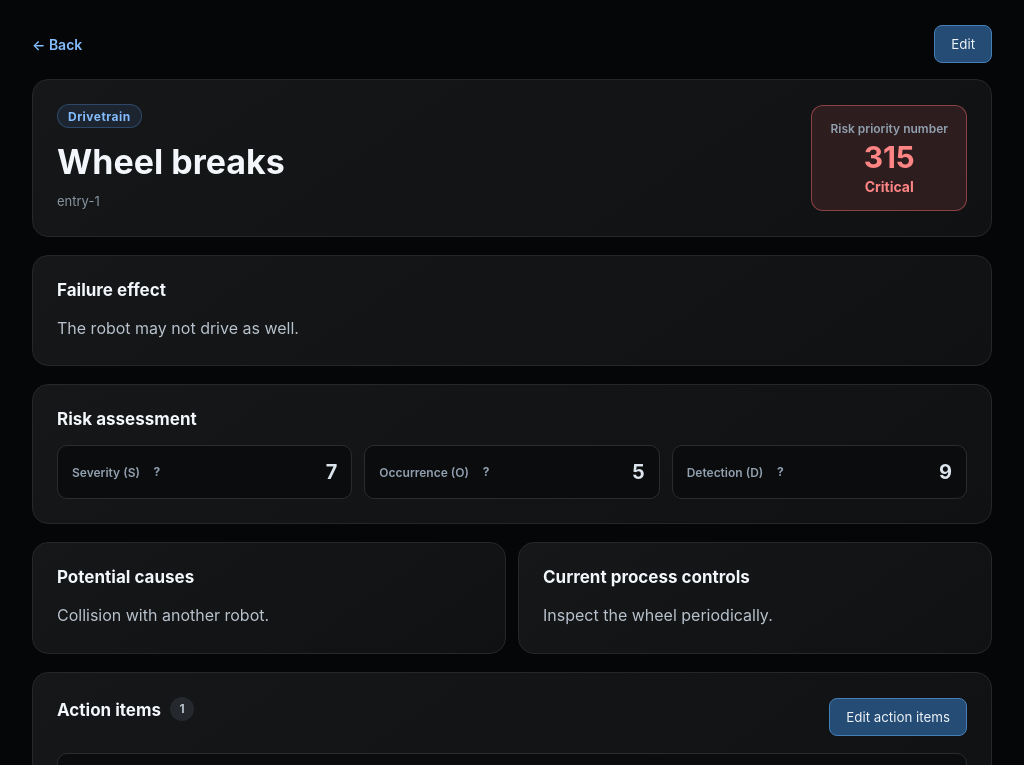
Test: FmeaEntryDetailComponent › saves staged action-item deletion
The width and height of the screenshot is (1024, 765).
Click the button with class "action-item-toggle".
click(898, 717)  # box top-left (829, 698), bottom-right (967, 736)
(page scrolled)
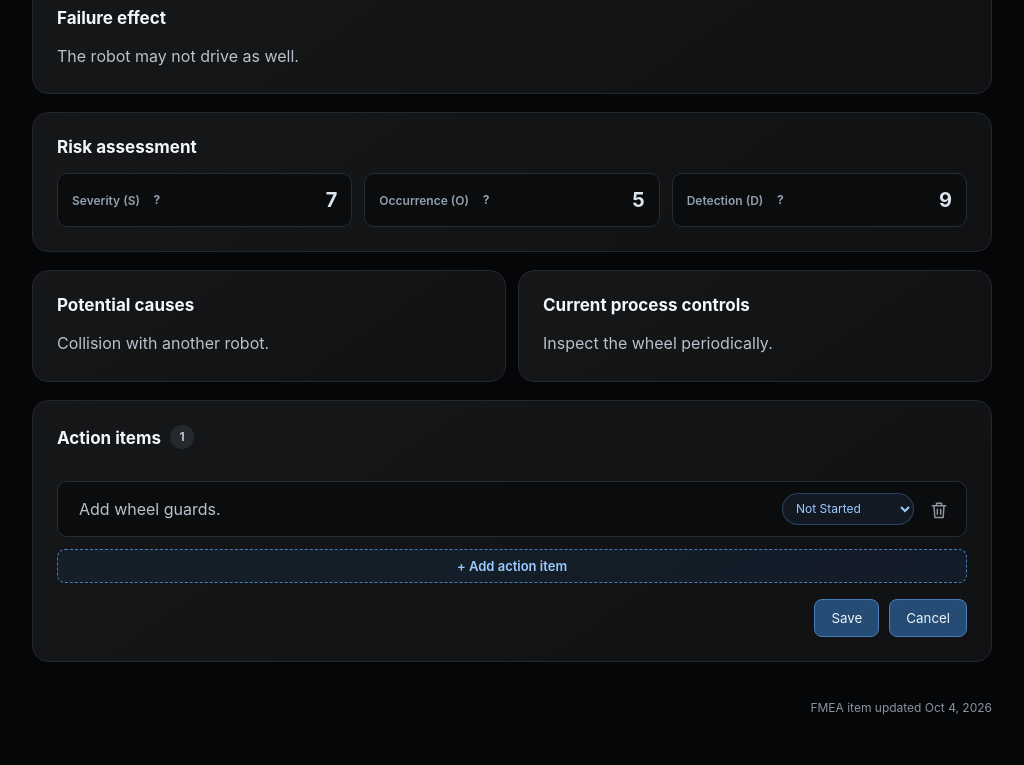
Click the button with class "action-item-delete".
click(938, 509)  # box top-left (922, 493), bottom-right (954, 525)
(page scrolled)
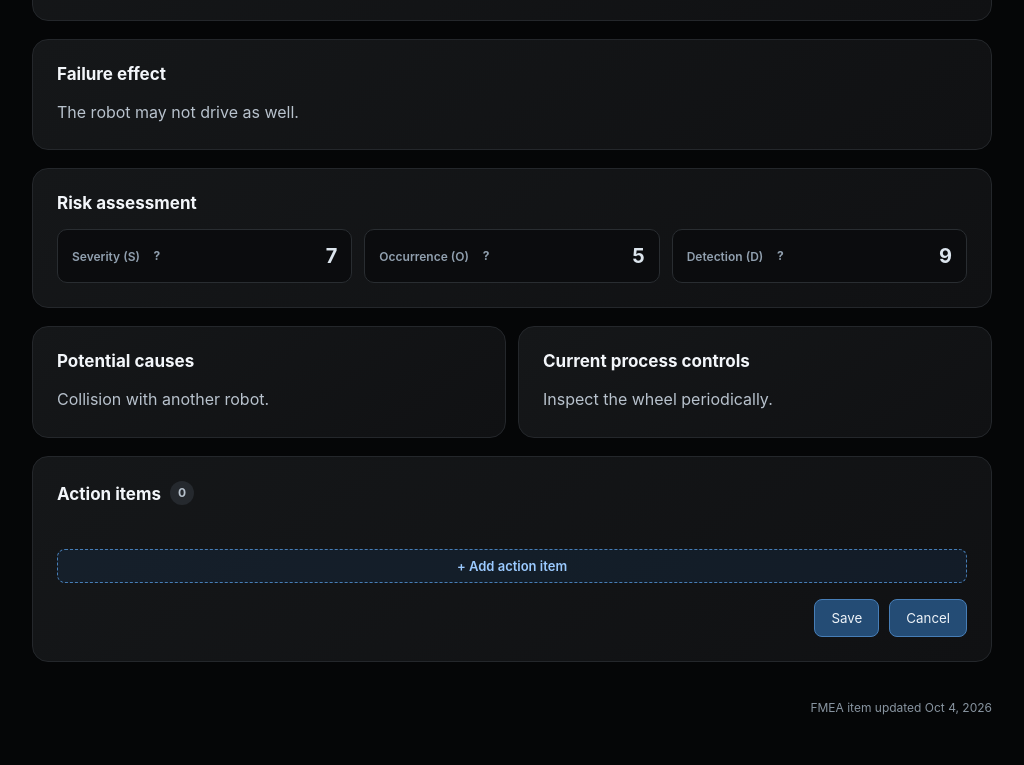
Click the button "Save".
click(847, 618)  # box top-left (814, 599), bottom-right (879, 637)
(page scrolled)
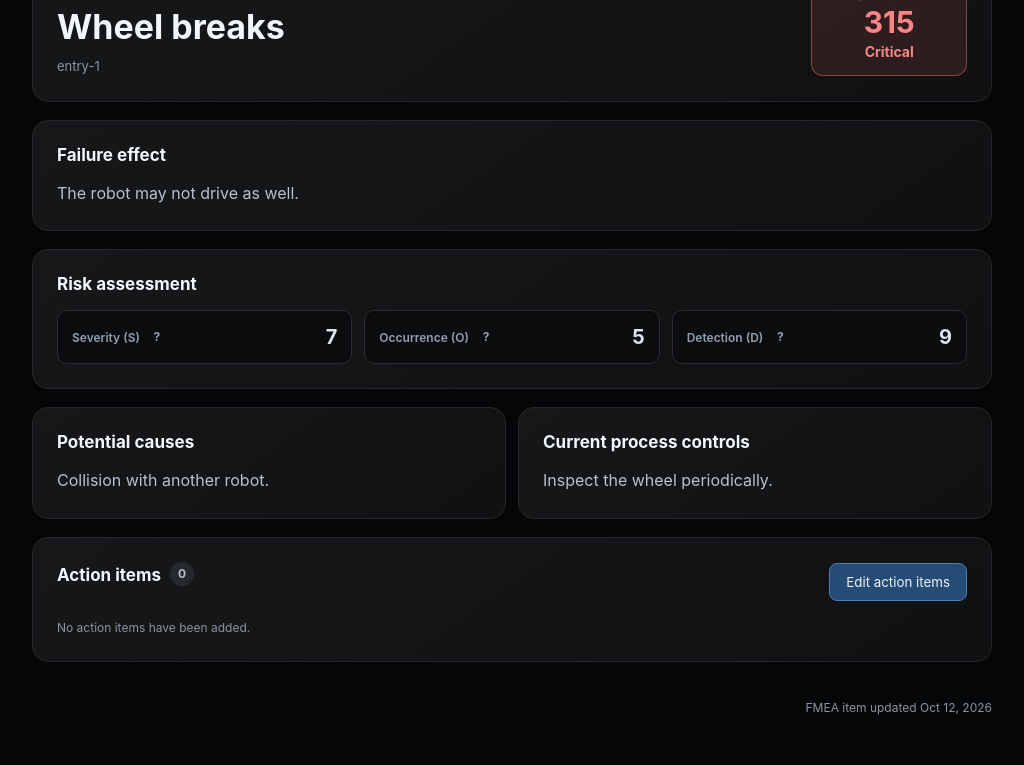
expect the text "No action items have been added." is shown: met, box top-left (57, 620), bottom-right (250, 635)
